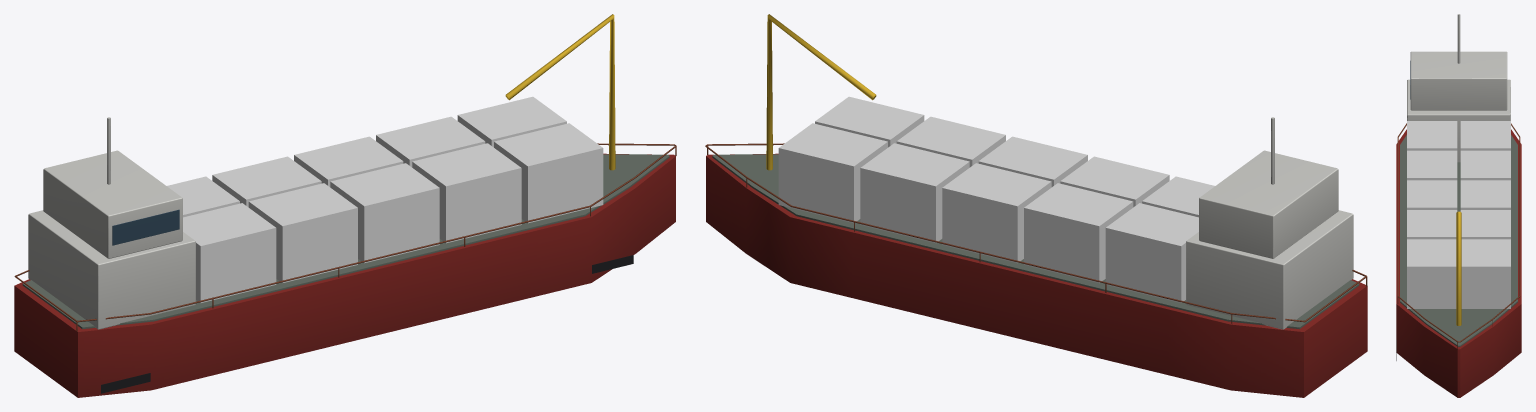
File: FreighterMIA.fbx
3 views of the same model, side by side, from view 1: azimuth 30°, elevation 25°; view 2: azimuth 150°, elevation 25°; view 3: azimuth 270°, elevation 25° (orthographic). The views are drawn at different scales.
Visible parts, largest first — view 1: FreighterMIA; view 2: FreighterMIA; view 3: FreighterMIA.
Part boxes in pixels (x1=…): FreighterMIA: x1=14, y1=14, x2=676, y2=397; FreighterMIA: x1=705, y1=14, x2=1367, y2=397; FreighterMIA: x1=1396, y1=14, x2=1521, y2=397.
Bounding box in the file's own units: 30.05 × 11 × 7.
